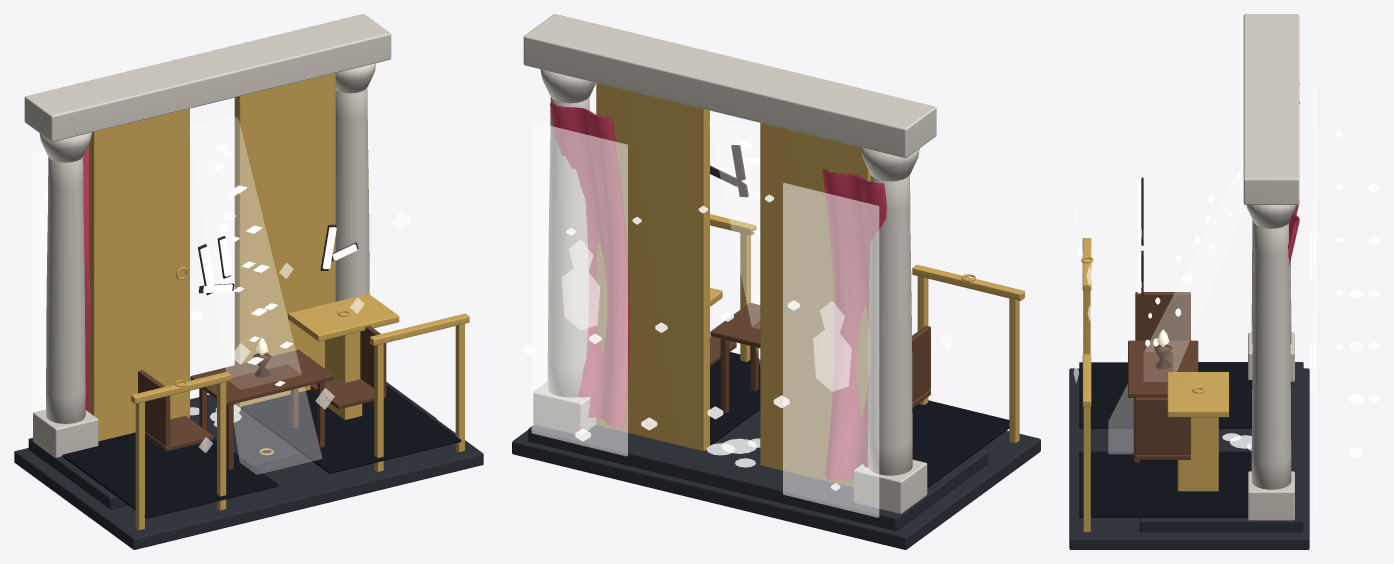
File: webtoon-aftermath-intact-salon-table-v26.glb
3 views of the same model, side by side, from view 1: azimuth 30°, elevation 25°; view 2: azimuth 150°, elevation 25°; view 3: azimuth 270°, elevation 25° (orthographic). The views are drawn at different scales.
Parts seen in each view (by area): view 1: Articulated_V26Stage1_Intact_DoorsAndIkRig, V26Stage1_Intact_PortalColonnade, Volumetric_V26Stage1_Intact_GodRaySlit, V26Stage1_Intact_DatumDeck, ShadowDrift_V26Stage1_Intact_UmbraMask, Aftermath_V26Stage1_Intact_DatumProps, HalfMirror_V26Stage1_Intact_FresnelReflection, ZDepthSFX_V26Stage1_Intact_GlyphCore, WindDrape_V26Stage1_Intact_CatenaryPair, Atmospheric_V26Stage1_Intact_FgBokehLayer, Atmospheric_V26Stage1_Intact_MidMotes, ZDepthSFX_V26Stage1_Intact_ShadowPlate; view 2: Articulated_V26Stage1_Intact_DoorsAndIkRig, HalfMirror_V26Stage1_Intact_FresnelReflection, V26Stage1_Intact_PortalColonnade, V26Stage1_Intact_DatumDeck, WindDrape_V26Stage1_Intact_CatenaryPair, ShadowDrift_V26Stage1_Intact_UmbraMask, Volumetric_V26Stage1_Intact_GodRaySlit, Aftermath_V26Stage1_Intact_DatumProps, Weather_V26Stage1_Intact_ExteriorOccluded, Weather_V26Stage1_Intact_IndoorWetRipples, ZDepthSFX_V26Stage1_Intact_ShadowPlate; view 3: V26Stage1_Intact_PortalColonnade, V26Stage1_Intact_DatumDeck, ShadowDrift_V26Stage1_Intact_UmbraMask, Aftermath_V26Stage1_Intact_DatumProps, Articulated_V26Stage1_Intact_DoorsAndIkRig, Volumetric_V26Stage1_Intact_GodRaySlit, HalfMirror_V26Stage1_Intact_FresnelReflection, Weather_V26Stage1_Intact_ExteriorOccluded, ZDepthSFX_V26Stage1_Intact_GlyphCore, Atmospheric_V26Stage1_Intact_MidMotes.
Part boxes in pixels (x1=…): Articulated_V26Stage1_Intact_DoorsAndIkRig: x1=89, y1=73, x2=469, y2=530; V26Stage1_Intact_PortalColonnade: x1=24, y1=14, x2=391, y2=457; Volumetric_V26Stage1_Intact_GodRaySlit: x1=190, y1=115, x2=321, y2=474; V26Stage1_Intact_DatumDeck: x1=14, y1=382, x2=483, y2=549; ShadowDrift_V26Stage1_Intact_UmbraMask: x1=62, y1=385, x2=461, y2=518; Aftermath_V26Stage1_Intact_DatumProps: x1=138, y1=326, x2=386, y2=469; HalfMirror_V26Stage1_Intact_FresnelReflection: x1=31, y1=149, x2=48, y2=428; ZDepthSFX_V26Stage1_Intact_GlyphCore: x1=200, y1=227, x2=357, y2=293; WindDrape_V26Stage1_Intact_CatenaryPair: x1=83, y1=145, x2=90, y2=411; Atmospheric_V26Stage1_Intact_FgBokehLayer: x1=199, y1=210, x2=410, y2=452; Atmospheric_V26Stage1_Intact_MidMotes: x1=212, y1=151, x2=292, y2=386; ZDepthSFX_V26Stage1_Intact_ShadowPlate: x1=198, y1=224, x2=358, y2=295; Articulated_V26Stage1_Intact_DoorsAndIkRig: x1=596, y1=83, x2=1024, y2=487; HalfMirror_V26Stage1_Intact_FresnelReflection: x1=531, y1=121, x2=879, y2=517; V26Stage1_Intact_PortalColonnade: x1=523, y1=14, x2=936, y2=513; V26Stage1_Intact_DatumDeck: x1=512, y1=410, x2=1040, y2=549; WindDrape_V26Stage1_Intact_CatenaryPair: x1=550, y1=102, x2=886, y2=480; ShadowDrift_V26Stage1_Intact_UmbraMask: x1=710, y1=352, x2=1009, y2=488; Volumetric_V26Stage1_Intact_GodRaySlit: x1=709, y1=119, x2=759, y2=363; Aftermath_V26Stage1_Intact_DatumProps: x1=710, y1=302, x2=930, y2=412; Weather_V26Stage1_Intact_ExteriorOccluded: x1=522, y1=194, x2=840, y2=490; Weather_V26Stage1_Intact_IndoorWetRipples: x1=706, y1=438, x2=760, y2=467; ZDepthSFX_V26Stage1_Intact_ShadowPlate: x1=710, y1=145, x2=748, y2=197; V26Stage1_Intact_PortalColonnade: x1=1243, y1=14, x2=1299, y2=520; V26Stage1_Intact_DatumDeck: x1=1069, y1=362, x2=1309, y2=549; ShadowDrift_V26Stage1_Intact_UmbraMask: x1=1079, y1=362, x2=1252, y2=517; Aftermath_V26Stage1_Intact_DatumProps: x1=1128, y1=292, x2=1198, y2=462; Articulated_V26Stage1_Intact_DoorsAndIkRig: x1=1080, y1=238, x2=1253, y2=532; Volumetric_V26Stage1_Intact_GodRaySlit: x1=1108, y1=160, x2=1245, y2=453; HalfMirror_V26Stage1_Intact_FresnelReflection: x1=1310, y1=87, x2=1316, y2=513; Weather_V26Stage1_Intact_ExteriorOccluded: x1=1334, y1=131, x2=1379, y2=457; ZDepthSFX_V26Stage1_Intact_GlyphCore: x1=1137, y1=180, x2=1141, y2=293; Atmospheric_V26Stage1_Intact_MidMotes: x1=1121, y1=173, x2=1243, y2=361.
Size of the model in its own units: 2.76 by 2.78 by 2.12.
